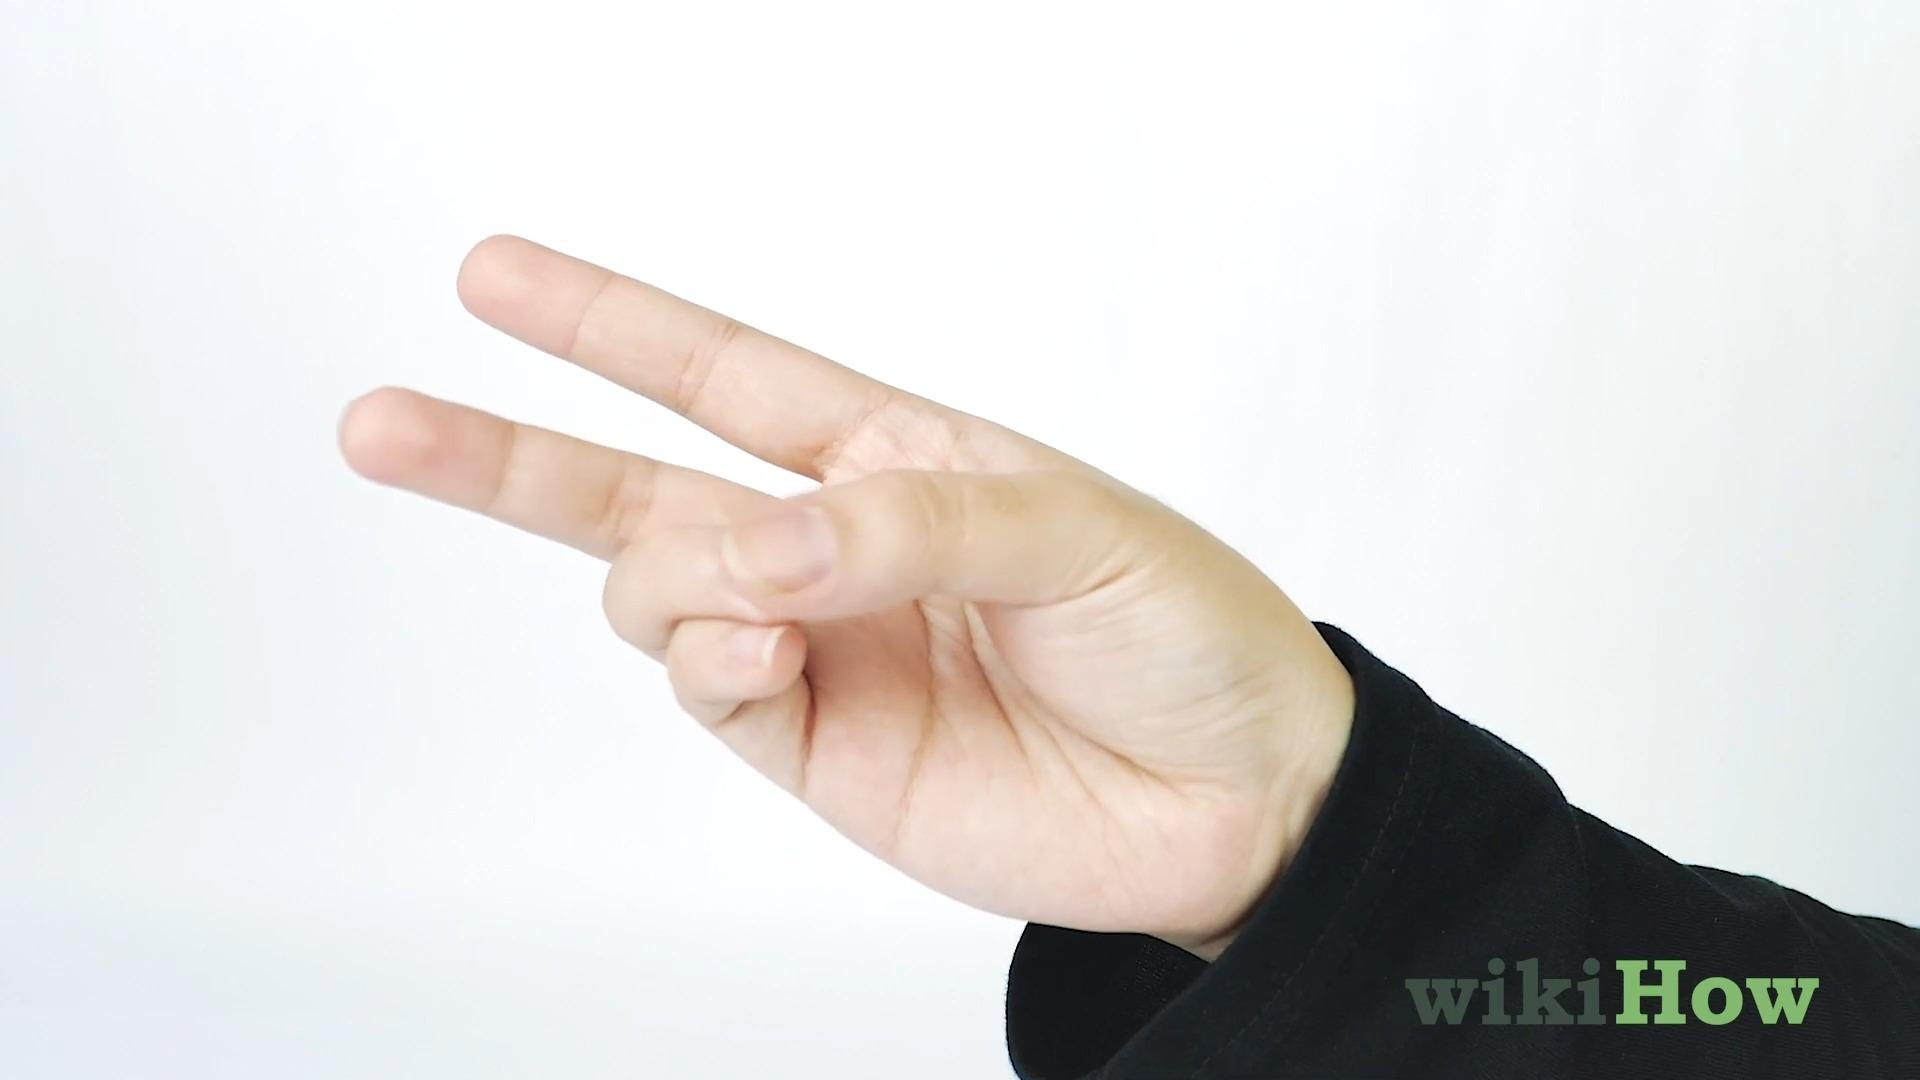Scissors: (332, 228, 1324, 947)
